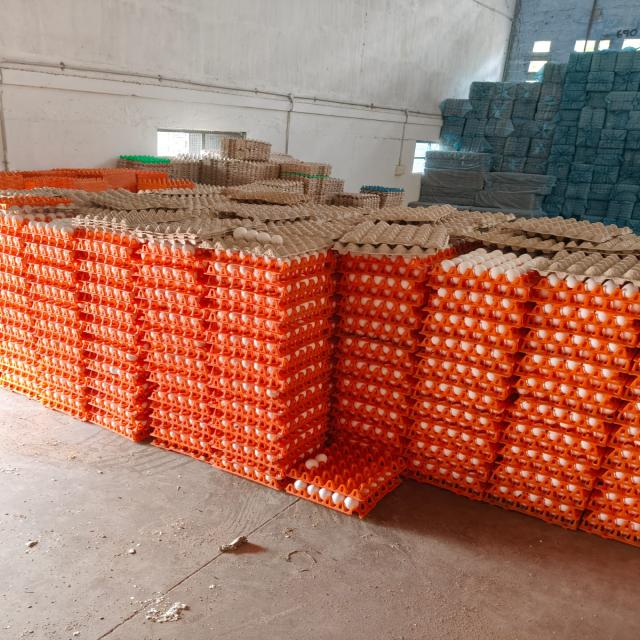egg_tray: (407, 250, 530, 498), (209, 251, 332, 488), (487, 339, 628, 528), (334, 254, 432, 455), (334, 254, 428, 454), (209, 252, 333, 403), (417, 249, 530, 414), (209, 270, 333, 410), (137, 241, 212, 459), (77, 228, 150, 440), (212, 360, 331, 477), (209, 380, 329, 489), (22, 218, 87, 419), (487, 422, 603, 528), (520, 305, 637, 406), (405, 390, 507, 498), (518, 324, 635, 418), (407, 354, 514, 453), (485, 435, 598, 528), (507, 376, 620, 468), (210, 320, 332, 403), (333, 336, 414, 454), (0, 207, 50, 398), (209, 323, 332, 399), (286, 438, 404, 517), (412, 353, 516, 441), (146, 327, 215, 459), (332, 345, 412, 454), (338, 255, 430, 349), (405, 395, 504, 481), (580, 401, 639, 545), (212, 316, 330, 388), (431, 249, 543, 324), (209, 331, 332, 398), (209, 272, 333, 337), (529, 273, 639, 346), (215, 361, 330, 429), (210, 347, 331, 410), (84, 321, 147, 439), (338, 250, 454, 313), (210, 274, 332, 333), (209, 282, 333, 340), (135, 242, 207, 340), (209, 250, 334, 306), (213, 359, 330, 417), (405, 427, 499, 499), (532, 252, 639, 314), (77, 231, 140, 334), (85, 342, 150, 441), (430, 242, 546, 297), (211, 360, 331, 413), (214, 423, 325, 480), (207, 320, 333, 370), (539, 252, 639, 315), (580, 440, 639, 545), (85, 344, 149, 440), (537, 251, 639, 310), (428, 289, 530, 348), (501, 414, 610, 469), (215, 383, 330, 435), (135, 241, 207, 323), (212, 326, 331, 375), (431, 248, 545, 299), (414, 357, 515, 414), (205, 221, 336, 264), (331, 384, 410, 455), (243, 196, 367, 241), (149, 376, 214, 461), (215, 421, 325, 471), (80, 209, 237, 244), (78, 252, 139, 342), (335, 342, 413, 412), (208, 443, 324, 490), (143, 308, 211, 388), (509, 395, 614, 445), (150, 378, 213, 460), (490, 461, 594, 510), (338, 248, 458, 290), (413, 378, 513, 428), (517, 353, 633, 396), (522, 328, 635, 372), (527, 303, 639, 347), (413, 370, 509, 420), (532, 273, 639, 316), (483, 484, 583, 530), (516, 376, 620, 419), (501, 442, 597, 488), (79, 270, 138, 344), (336, 216, 449, 254), (336, 330, 417, 383), (405, 423, 500, 468), (422, 311, 526, 352), (338, 288, 422, 338), (329, 404, 409, 456), (339, 252, 445, 291), (22, 218, 77, 292), (418, 336, 517, 377), (77, 226, 140, 290), (148, 374, 214, 433), (429, 288, 527, 326), (265, 208, 362, 246), (403, 457, 487, 500), (338, 288, 422, 330), (532, 295, 599, 347), (541, 250, 639, 285), (35, 337, 86, 404), (233, 202, 321, 240), (505, 216, 631, 242), (339, 308, 419, 348), (76, 217, 142, 265), (142, 312, 209, 359), (0, 324, 40, 398), (0, 231, 30, 327), (22, 218, 76, 271), (83, 299, 141, 348), (579, 500, 639, 546), (77, 226, 140, 269), (25, 256, 77, 308), (0, 332, 40, 398), (294, 206, 365, 243), (147, 343, 212, 383), (33, 331, 85, 380), (0, 190, 76, 223), (603, 402, 639, 471), (31, 294, 81, 343), (0, 193, 76, 225), (469, 228, 566, 253), (85, 190, 189, 213), (612, 354, 639, 441), (140, 238, 209, 272), (606, 399, 639, 470), (438, 207, 515, 237), (38, 373, 87, 420), (0, 274, 32, 340), (429, 352, 493, 383), (369, 204, 459, 224), (0, 212, 27, 275), (565, 234, 639, 256), (227, 184, 307, 204), (81, 282, 136, 308), (226, 178, 303, 196), (220, 138, 271, 160), (137, 174, 195, 193), (233, 226, 283, 246), (282, 159, 331, 176), (361, 190, 404, 208), (332, 193, 380, 209), (0, 171, 23, 192), (214, 254, 241, 270), (234, 231, 257, 242), (579, 314, 614, 321), (354, 338, 380, 347), (540, 274, 557, 287), (438, 383, 462, 392), (54, 273, 72, 284), (30, 269, 48, 280), (456, 447, 479, 455), (611, 493, 625, 506), (220, 359, 238, 368), (373, 303, 389, 313), (35, 286, 48, 298), (163, 272, 182, 280), (104, 268, 119, 278), (416, 369, 429, 380), (359, 338, 378, 345), (482, 446, 492, 459), (552, 430, 563, 441), (250, 417, 262, 427), (464, 480, 473, 493), (585, 309, 604, 315), (485, 337, 495, 348), (509, 357, 516, 370), (478, 371, 486, 382), (621, 319, 630, 328), (625, 386, 634, 394), (242, 354, 252, 361), (575, 338, 583, 346), (508, 354, 515, 363), (627, 498, 636, 505), (479, 280, 485, 290), (319, 350, 326, 358), (122, 336, 130, 343), (96, 293, 107, 298), (537, 314, 548, 319), (368, 404, 377, 410), (497, 306, 502, 316), (632, 363, 637, 373), (250, 476, 260, 481), (290, 375, 296, 382), (582, 445, 589, 451), (332, 244, 337, 252), (380, 371, 388, 376), (437, 478, 443, 484), (39, 214, 45, 220), (52, 373, 58, 379), (478, 349, 484, 355), (274, 201, 286, 204), (443, 442, 450, 447), (459, 459, 470, 462), (449, 478, 459, 481), (609, 327, 615, 332), (516, 424, 521, 430), (220, 359, 225, 365), (274, 427, 280, 432), (476, 212, 486, 215), (500, 352, 506, 357), (441, 351, 447, 356), (503, 343, 508, 349), (325, 326, 330, 332), (442, 205, 451, 208), (159, 344, 165, 348), (579, 299, 585, 303), (554, 426, 560, 430), (377, 387, 381, 393), (243, 354, 251, 357), (87, 288, 93, 292), (540, 333, 546, 337), (372, 292, 383, 294), (159, 351, 166, 354), (243, 360, 250, 363), (92, 316, 97, 320), (51, 285, 56, 289), (600, 471, 605, 475), (615, 350, 619, 355), (605, 340, 610, 344), (555, 424, 559, 429), (451, 369, 455, 374), (511, 332, 516, 336), (3, 280, 5, 289), (185, 322, 188, 328), (114, 333, 117, 339), (492, 349, 498, 352), (269, 378, 275, 381), (590, 341, 596, 344), (461, 348, 467, 351), (319, 353, 325, 356), (73, 402, 77, 406), (87, 344, 91, 348), (634, 335, 636, 343), (473, 463, 477, 467), (136, 316, 139, 321), (514, 494, 519, 497), (474, 281, 477, 286), (466, 212, 469, 217), (55, 190, 60, 193), (342, 338, 345, 343), (512, 362, 515, 367), (65, 289, 69, 292), (212, 326, 215, 330), (6, 287, 10, 290), (212, 354, 214, 360), (295, 273, 299, 276), (582, 414, 586, 417), (269, 394, 275, 396), (417, 456, 421, 459), (501, 380, 506, 382), (267, 296, 272, 298), (458, 382, 463, 384), (634, 330, 636, 335), (83, 185, 86, 188), (170, 434, 173, 437), (558, 508, 561, 511), (233, 467, 236, 470), (347, 300, 350, 303), (309, 186, 312, 189), (605, 336, 609, 338), (610, 316, 612, 320), (298, 387, 302, 389), (39, 265, 43, 267), (417, 296, 421, 298), (594, 435, 596, 439), (86, 279, 90, 281), (419, 381, 421, 385), (581, 318, 585, 320), (299, 199, 303, 201), (238, 197, 242, 199), (463, 464, 467, 466), (321, 352, 323, 355), (82, 416, 85, 418), (2, 282, 5, 284), (190, 192, 193, 194), (615, 347, 617, 350), (619, 316, 622, 318), (610, 289, 612, 292), (559, 286, 562, 288), (571, 282, 574, 284), (0, 225, 3, 227), (487, 360, 490, 362), (370, 385, 373, 387), (212, 360, 214, 363), (258, 364, 261, 366), (423, 362, 426, 364), (594, 430, 596, 433), (363, 371, 365, 374), (350, 301, 353, 303), (518, 322, 520, 324), (572, 402, 574, 404), (593, 318, 595, 320), (265, 424, 267, 426), (466, 282, 468, 284), (471, 214, 473, 216), (277, 427, 279, 429), (461, 251, 465, 252), (494, 418, 498, 419), (572, 276, 573, 279), (97, 271, 100, 272), (439, 432, 442, 433), (254, 363, 257, 364), (575, 344, 578, 345), (105, 310, 106, 312), (506, 385, 508, 386), (477, 384, 478, 386), (164, 212, 166, 213), (577, 300, 578, 302), (232, 363, 234, 364), (267, 426, 268, 428), (233, 358, 235, 359), (212, 292, 213, 294), (276, 240, 277, 242), (482, 396, 483, 398), (266, 407, 268, 408), (278, 327, 280, 328), (417, 465, 419, 466), (511, 368, 512, 370), (256, 198, 258, 199), (421, 421, 423, 422), (65, 296, 66, 297), (571, 287, 572, 288), (215, 327, 216, 328), (274, 265, 275, 266), (44, 265, 45, 266), (329, 198, 330, 199), (215, 292, 216, 293), (489, 381, 490, 382), (218, 423, 219, 424), (252, 260, 253, 261), (267, 436, 268, 437), (76, 181, 77, 181), (246, 356, 248, 356), (147, 434, 148, 434), (125, 332, 125, 332), (581, 383, 581, 384), (153, 216, 156, 216), (321, 352, 321, 353), (614, 334, 614, 334), (580, 294, 583, 294), (5, 227, 5, 228), (574, 310, 575, 310), (217, 382, 217, 383), (265, 338, 266, 338), (631, 383, 632, 383), (541, 431, 541, 434), (481, 352, 483, 352), (222, 354, 223, 354), (296, 427, 296, 428), (278, 423, 279, 423), (254, 298, 254, 300), (259, 294, 259, 295), (494, 290, 494, 290), (5, 325, 5, 328), (403, 334, 403, 334), (500, 214, 503, 214), (258, 365, 260, 365), (594, 342, 594, 343), (609, 492, 610, 492), (258, 392, 259, 392), (485, 394, 485, 395), (429, 208, 430, 208), (292, 203, 294, 203), (236, 196, 238, 196), (608, 370, 608, 370)
